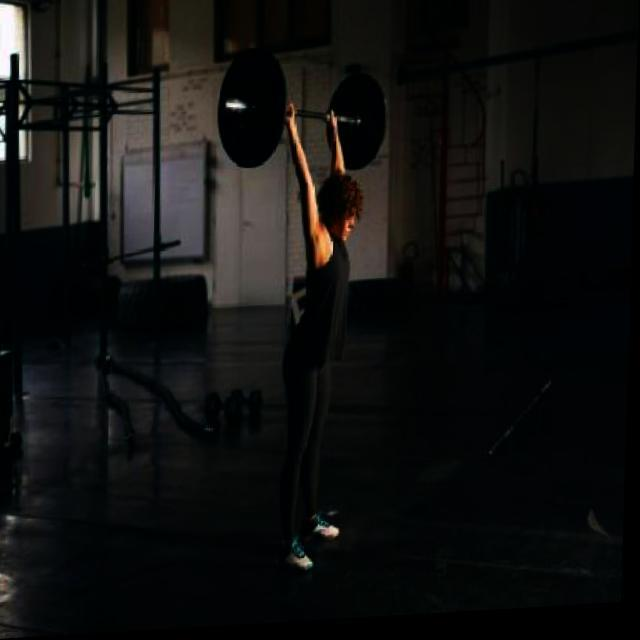barbell: (208, 42, 293, 178)
